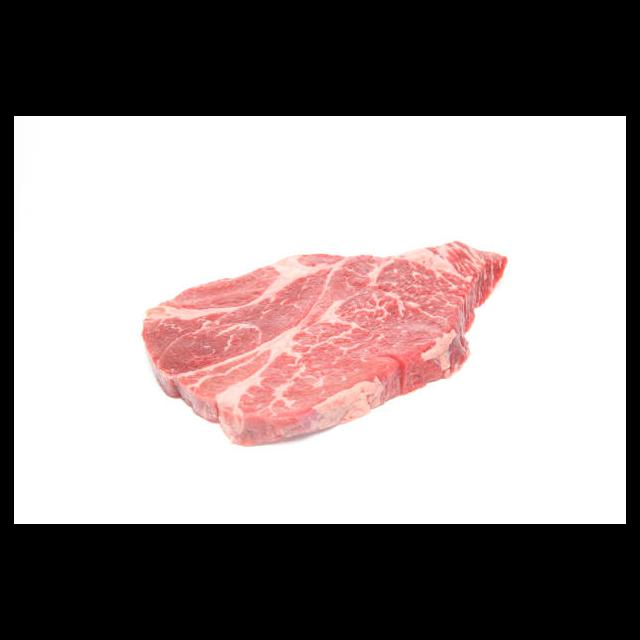beef: (139, 240, 518, 452)
